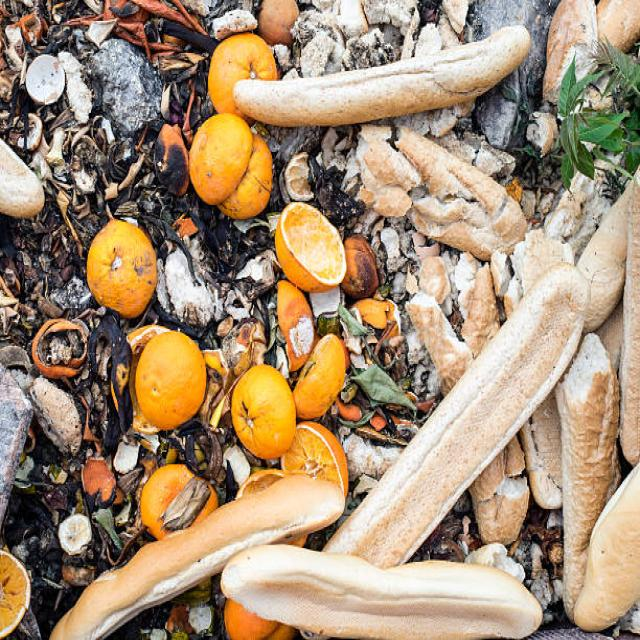trash: (8, 17, 600, 574)
